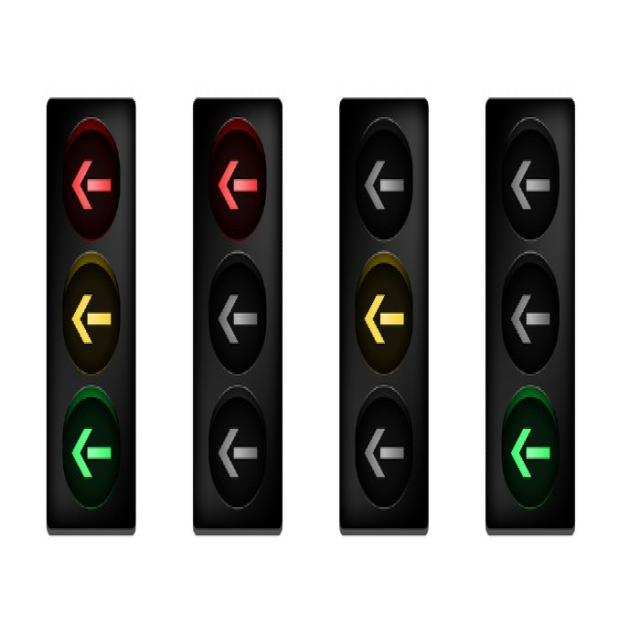green-lights: (509, 367, 561, 505), (59, 390, 114, 501)
red-lights: (206, 129, 274, 246), (62, 110, 122, 226)
yellow-lights: (349, 252, 409, 360), (61, 246, 112, 373)
